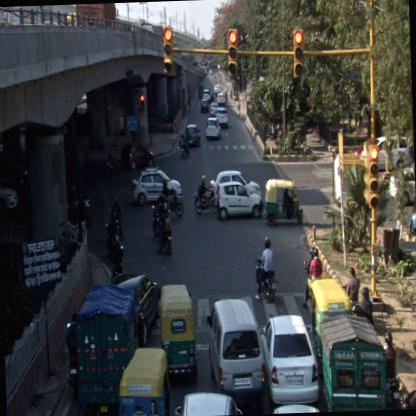car: (206, 298, 264, 398), (261, 312, 320, 406), (114, 274, 162, 346), (216, 178, 263, 220), (133, 166, 182, 202), (174, 392, 245, 415), (210, 168, 262, 198), (121, 142, 154, 172), (206, 116, 222, 140), (184, 123, 200, 147), (216, 107, 228, 128), (209, 102, 218, 118), (200, 101, 210, 112), (217, 93, 226, 105)
motorcycle: (252, 235, 278, 302), (102, 212, 127, 274), (300, 243, 322, 306), (152, 199, 174, 255), (158, 176, 184, 218), (194, 175, 215, 214), (178, 132, 192, 157)
truck: (75, 281, 140, 415), (317, 314, 387, 412)
